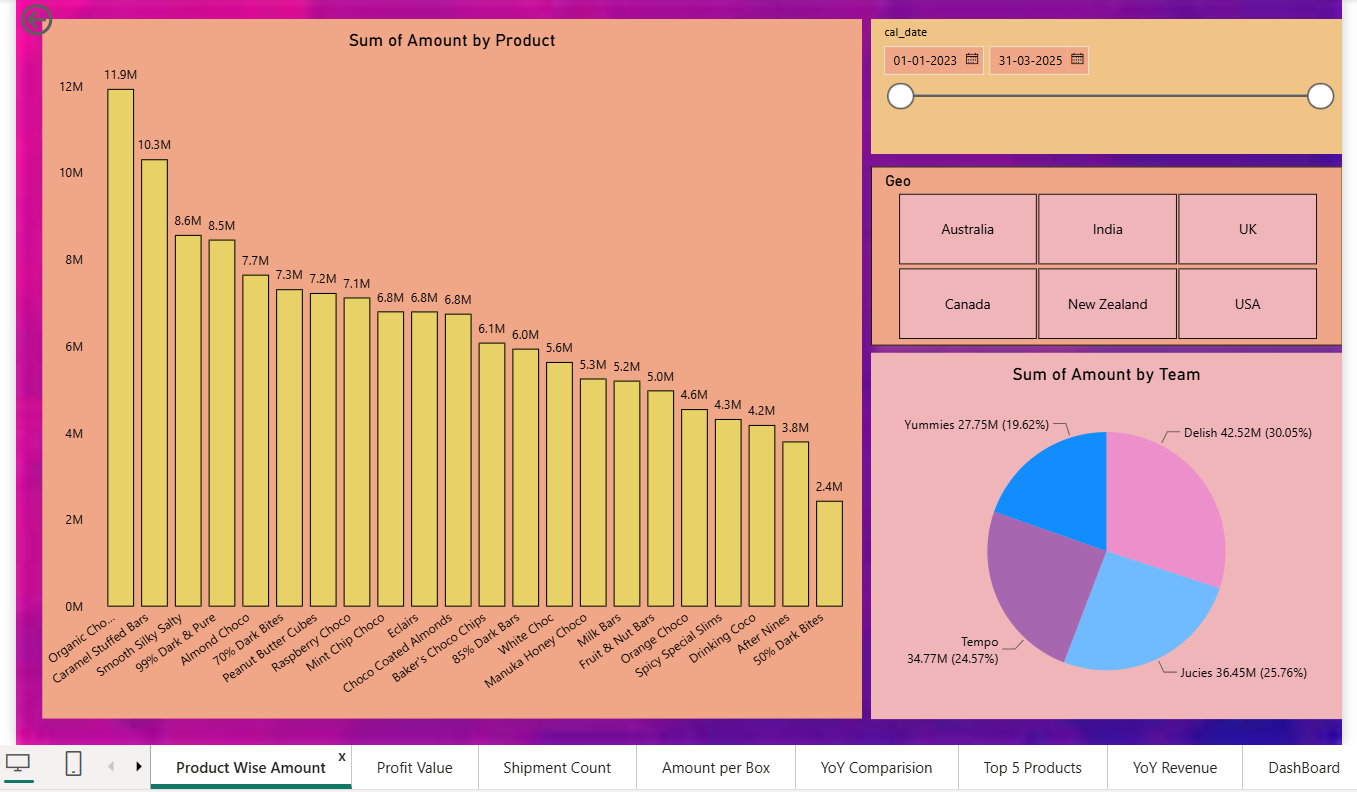

This screenshot's page, from the dashboard's own definition file:
{"tool":"powerbi","page":{"name":"Product Wise Amount","canvas":[1280,720],"ordinal":0},"visuals":[{"type":"clusteredColumnChart","fields":{"Category":["products.Product"],"Y":["Sum(shipments.Amount)"]},"box":[25.7,19.6,791.2,675],"z":0},{"type":"actionButton","box":[0,0,100,40],"z":1000},{"type":"slicer","fields":{"Values":["locations.Geo"]},"box":[825.4,161.4,454.9,172.4],"z":2000},{"type":"pieChart","fields":{"Category":["people.Team"],"Y":["Sum(shipments.Amount)"]},"box":[825.4,341.2,454.9,353.4],"z":3000},{"type":"slicer","fields":{"Values":["calendar.cal_date"]},"box":[825.4,19.6,454.9,129.6],"z":4000}]}

Visuals, with their boxes in screenshot pixels (x1, y1, x2, y2):
clusteredColumnChart - products.Product x Sum(shipments.Amount): (34, 13, 861, 719)
actionButton: (7, 0, 112, 35)
slicer - locations.Geo: (870, 162, 1346, 342)
pieChart - people.Team x Sum(shipments.Amount): (870, 350, 1346, 719)
slicer - calendar.cal_date: (870, 13, 1346, 149)
